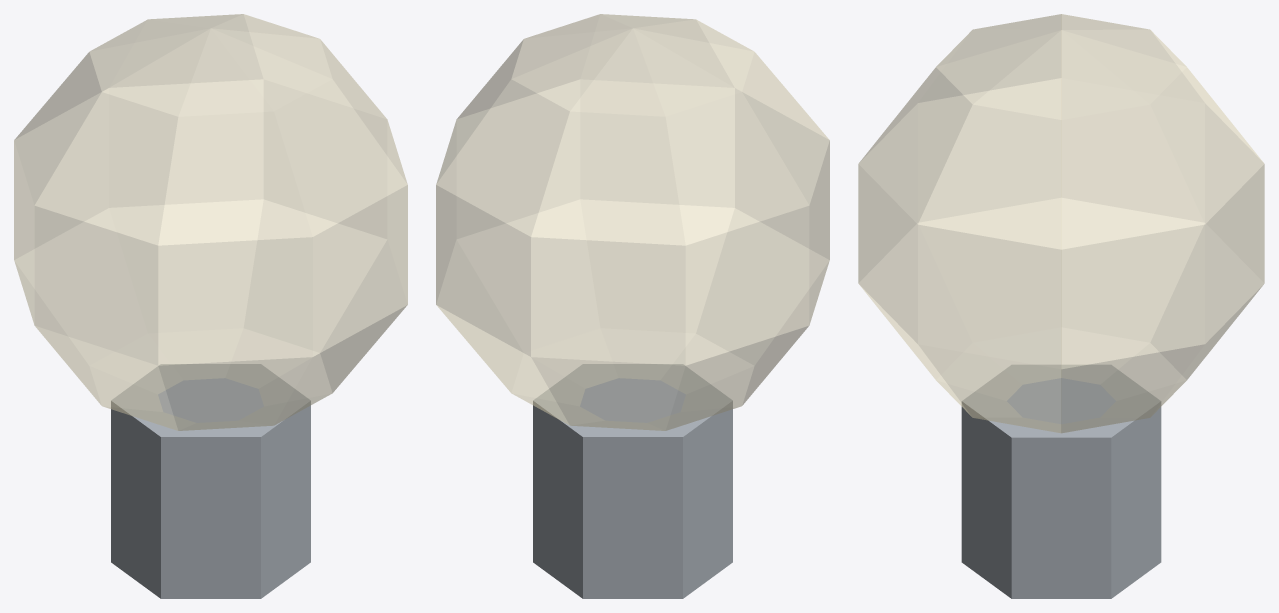
File: lightbulb.fbx
3 renders of one model, left to right at view 1: azimuth 30°, elevation 25°; view 2: azimuth 150°, elevation 25°; view 3: azimuth 270°, elevation 25°, orthographic.
Visible parts, largest first — view 1: lightbulb; view 2: lightbulb; view 3: lightbulb.
Boxes of the visible parts, bbox=[...] form: lightbulb: bbox=[14, 14, 407, 598]; lightbulb: bbox=[436, 14, 829, 598]; lightbulb: bbox=[858, 14, 1264, 598].
Size of the model in its own units: 0.2283 by 0.33 by 0.2283.
